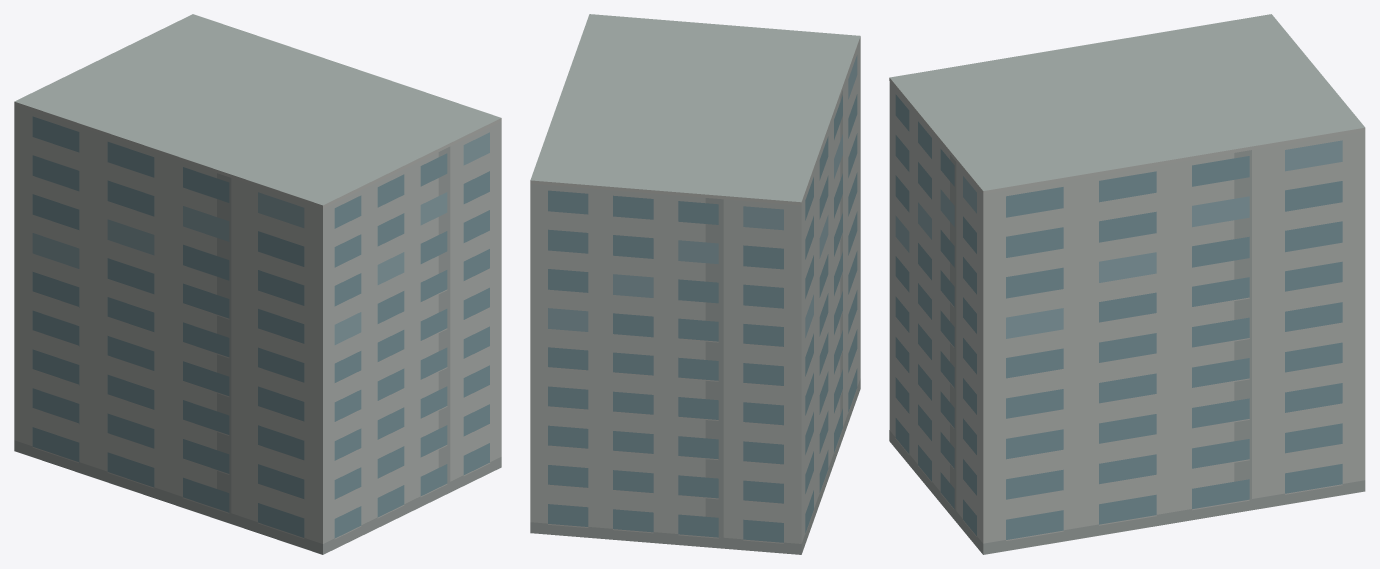
File: survey-upis-32861550.glb
The picture shows the model from 3 angles, left to right: view 1: azimuth 30°, elevation 25°; view 2: azimuth 150°, elevation 25°; view 3: azimuth 270°, elevation 25°; orthographic projection. The views are drawn at different scales.
Visible parts, largest first — view 1: survey-upis-32861550.tmp; view 2: survey-upis-32861550.tmp; view 3: survey-upis-32861550.tmp.
Part boxes in pixels (x1,y1,x2,y2): survey-upis-32861550.tmp: (14, 14, 501, 554); survey-upis-32861550.tmp: (530, 14, 860, 554); survey-upis-32861550.tmp: (889, 14, 1365, 554).
Bounding box in the file's own units: 26.69 × 25.55 × 30.3.
